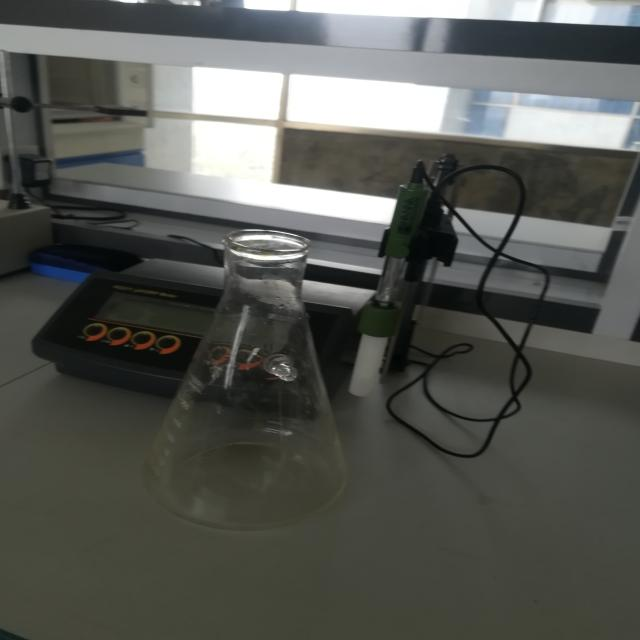Conical_Flask: (104, 184, 392, 556)
